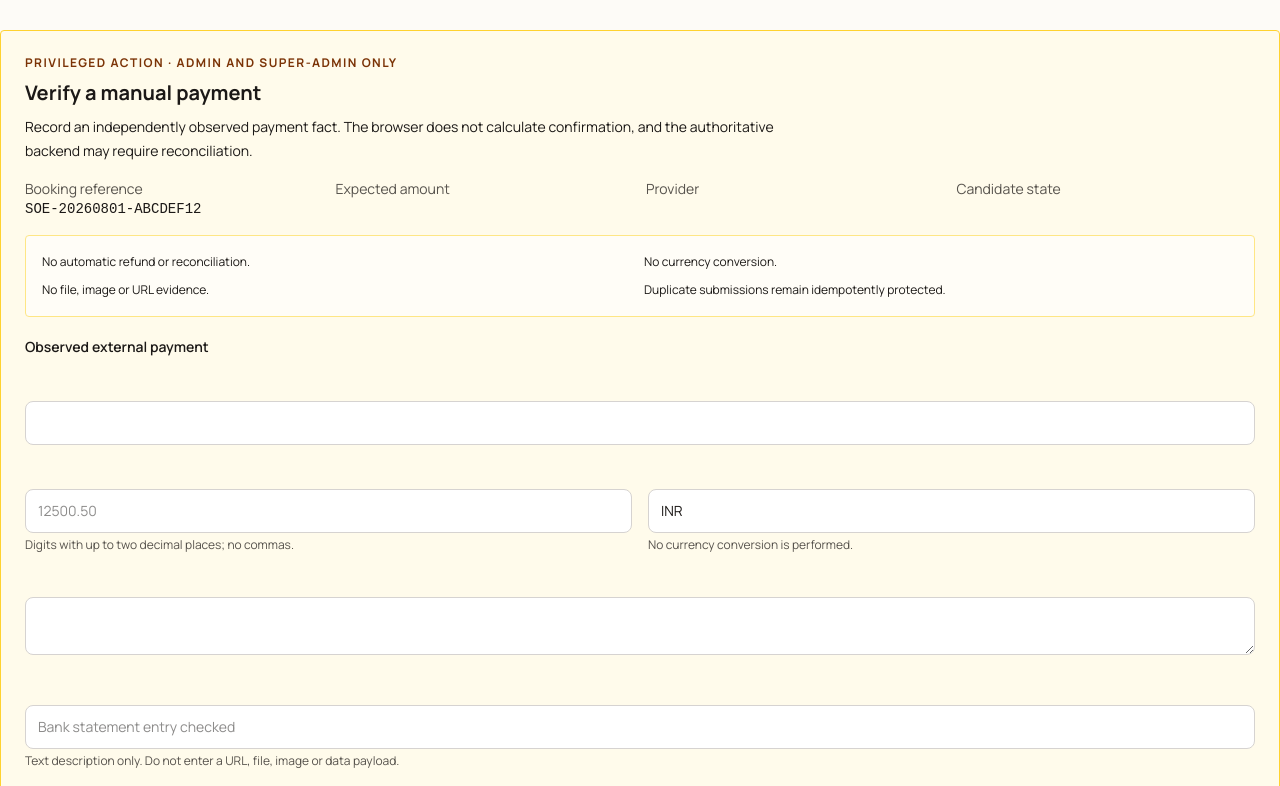
manual-payment eligibility and verification › requires attestation before invoking the payment action
The width and height of the screenshot is (1280, 786).
Type "UPI-REFERENCE-1" into the field labelled "External payment reference" at (640, 423), box x1=25 y1=401 x2=1255 y2=445
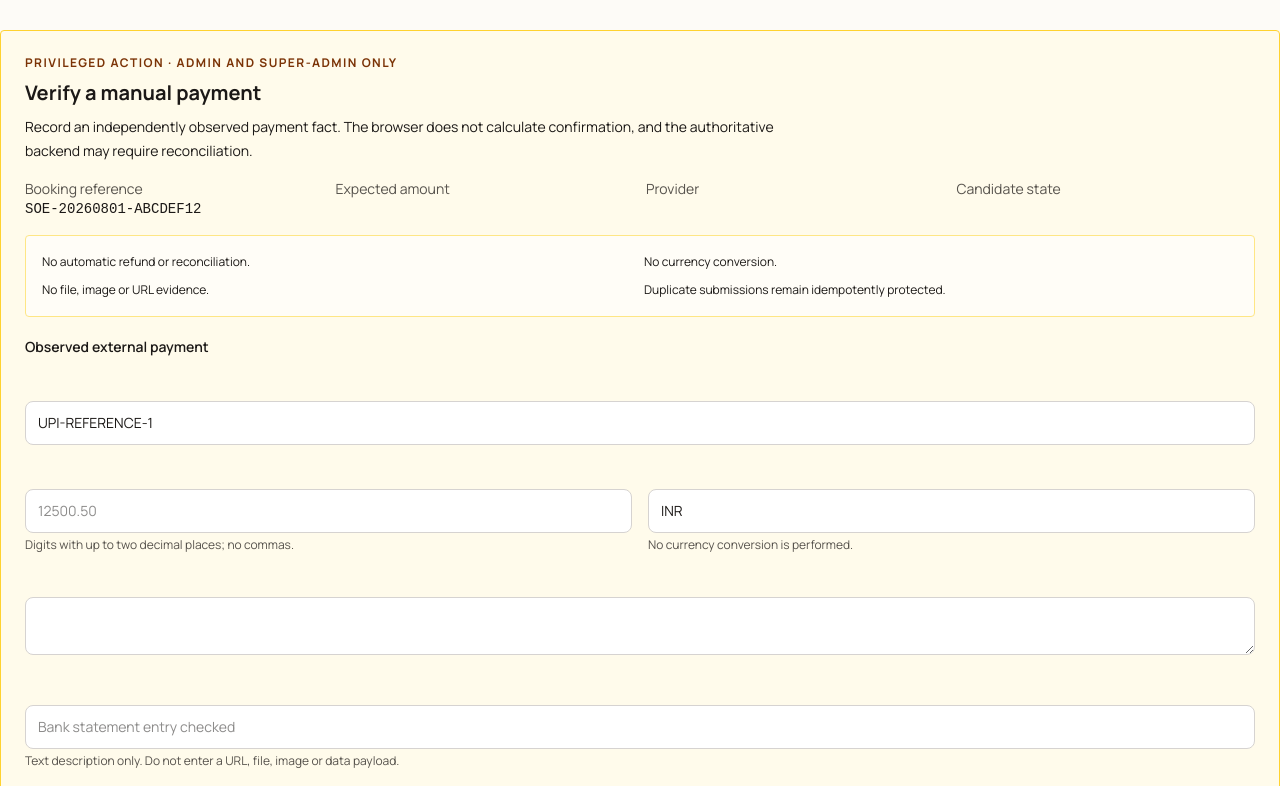
Type "5000" into the field labelled "Observed INR amount" at (328, 511), box x1=25 y1=489 x2=632 y2=533
(page scrolled)
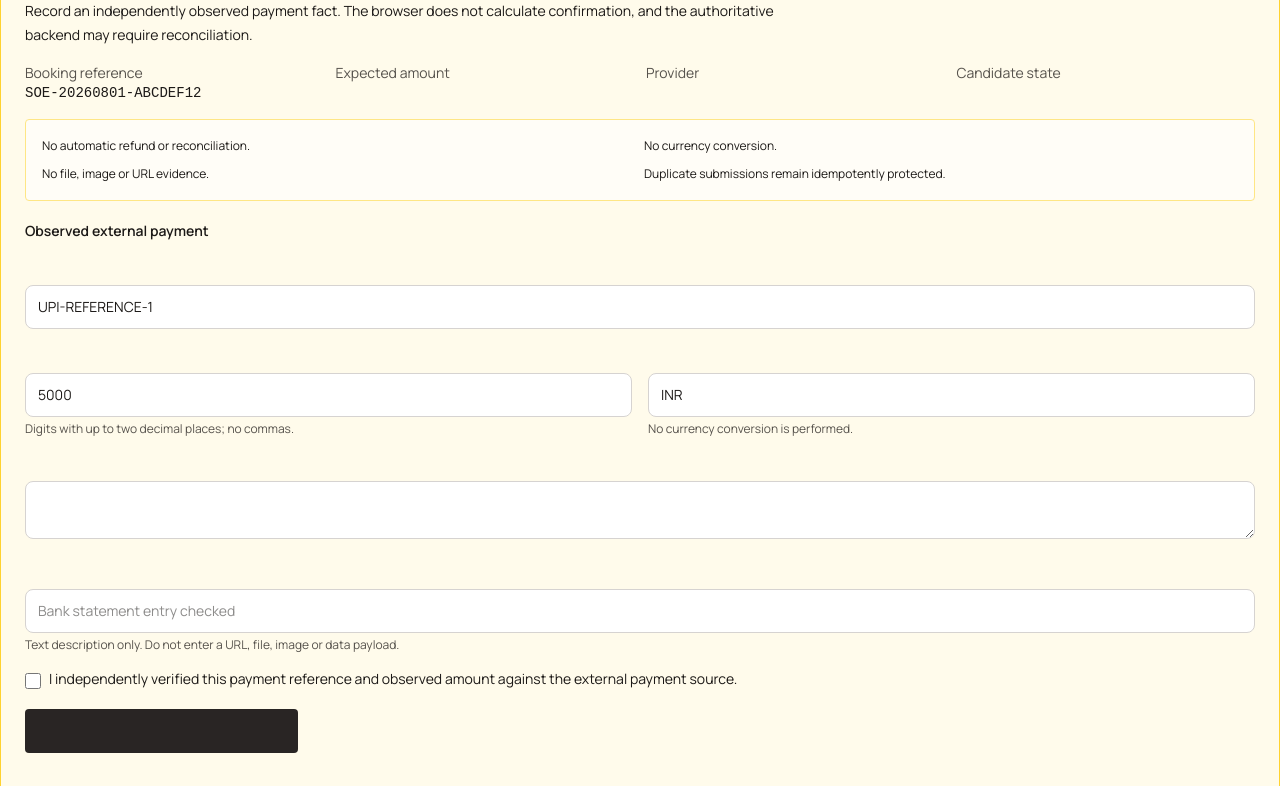
Click the button "Submit verified payment observation" at (162, 731), box x1=25 y1=709 x2=298 y2=753
(page scrolled)
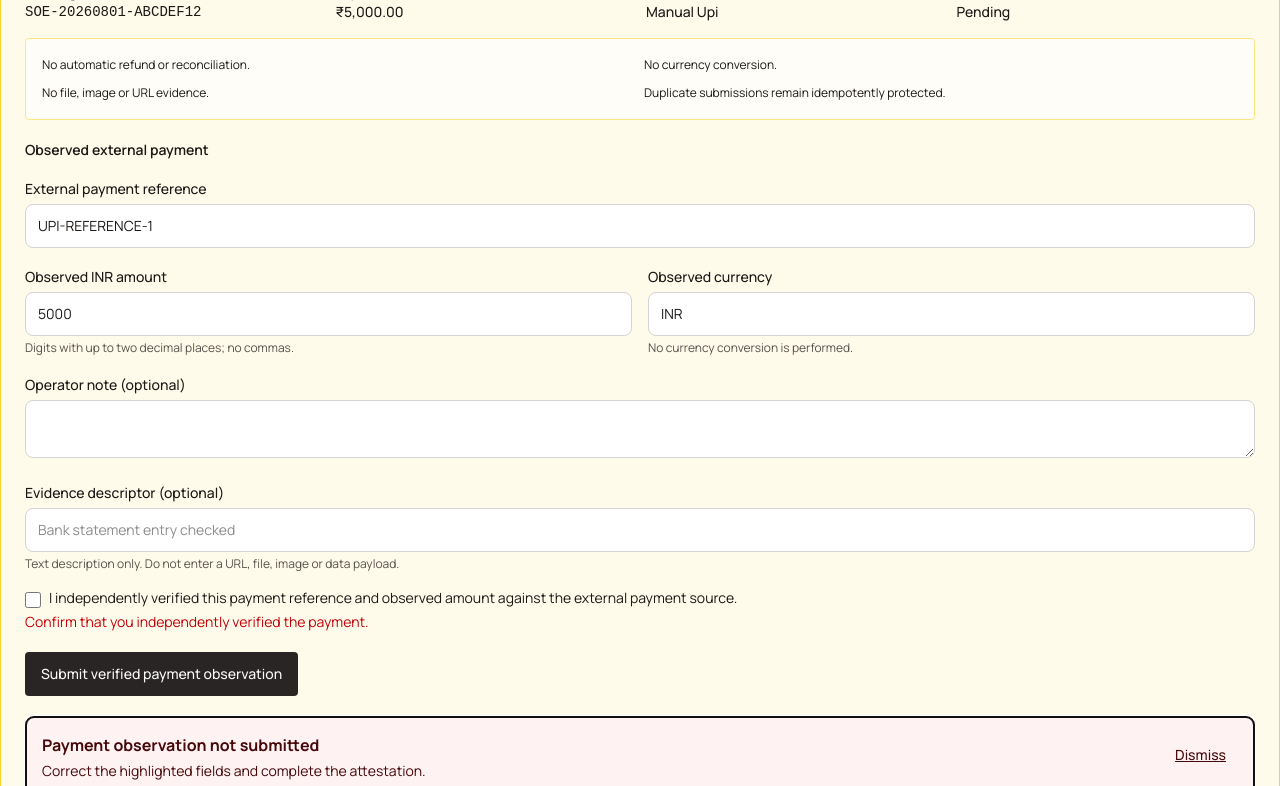
expect the text "Confirm that you independently verified the payment." is shown: met, box x1=25 y1=612 x2=369 y2=631
